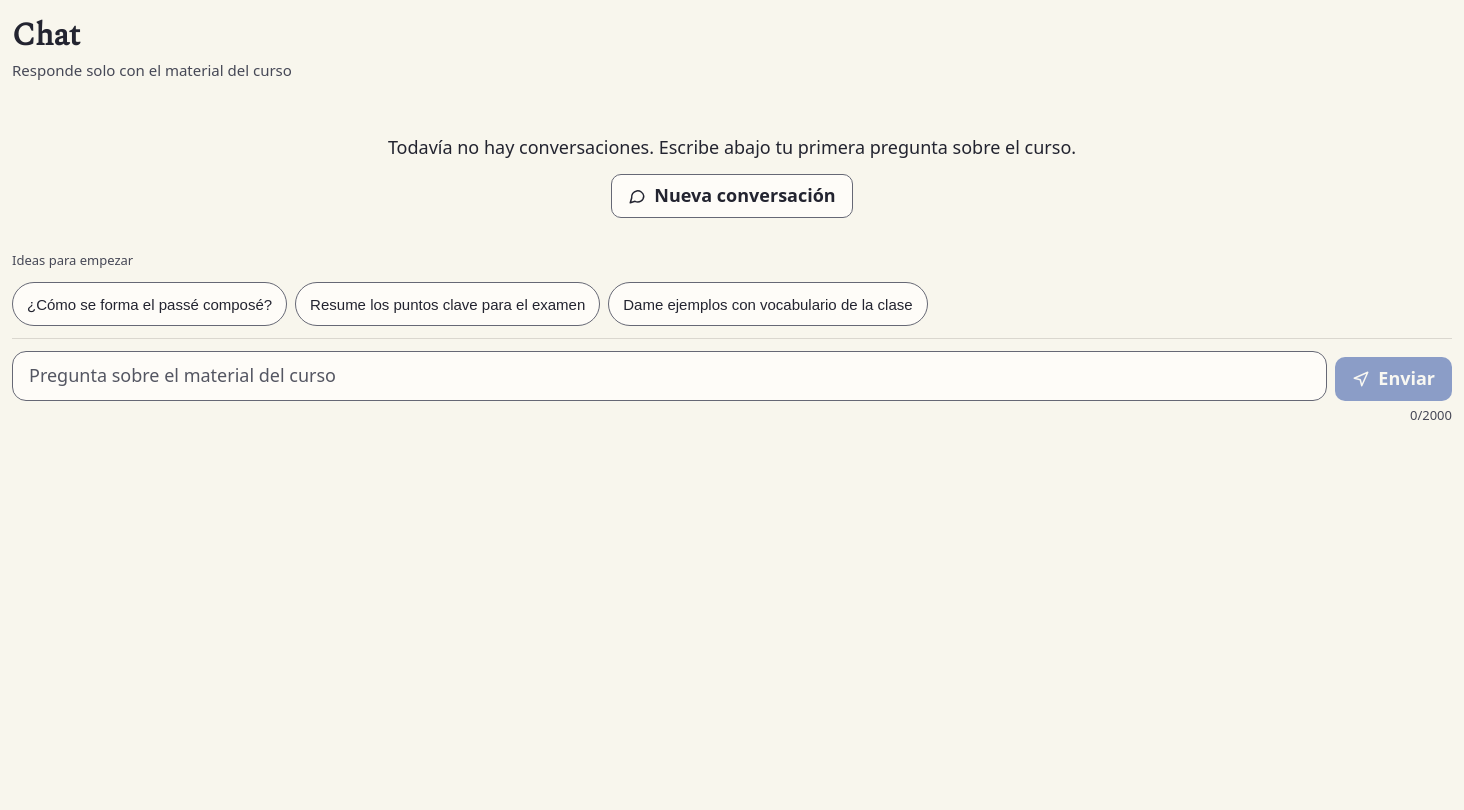
Test: sin conversaciones, la primera pregunta crea el hilo y se envía
Type "¿Cuándo uso être?" into the text box labelled "Pregunta" at (670, 376), box 12,351 -> 1327,401
Then press Enter
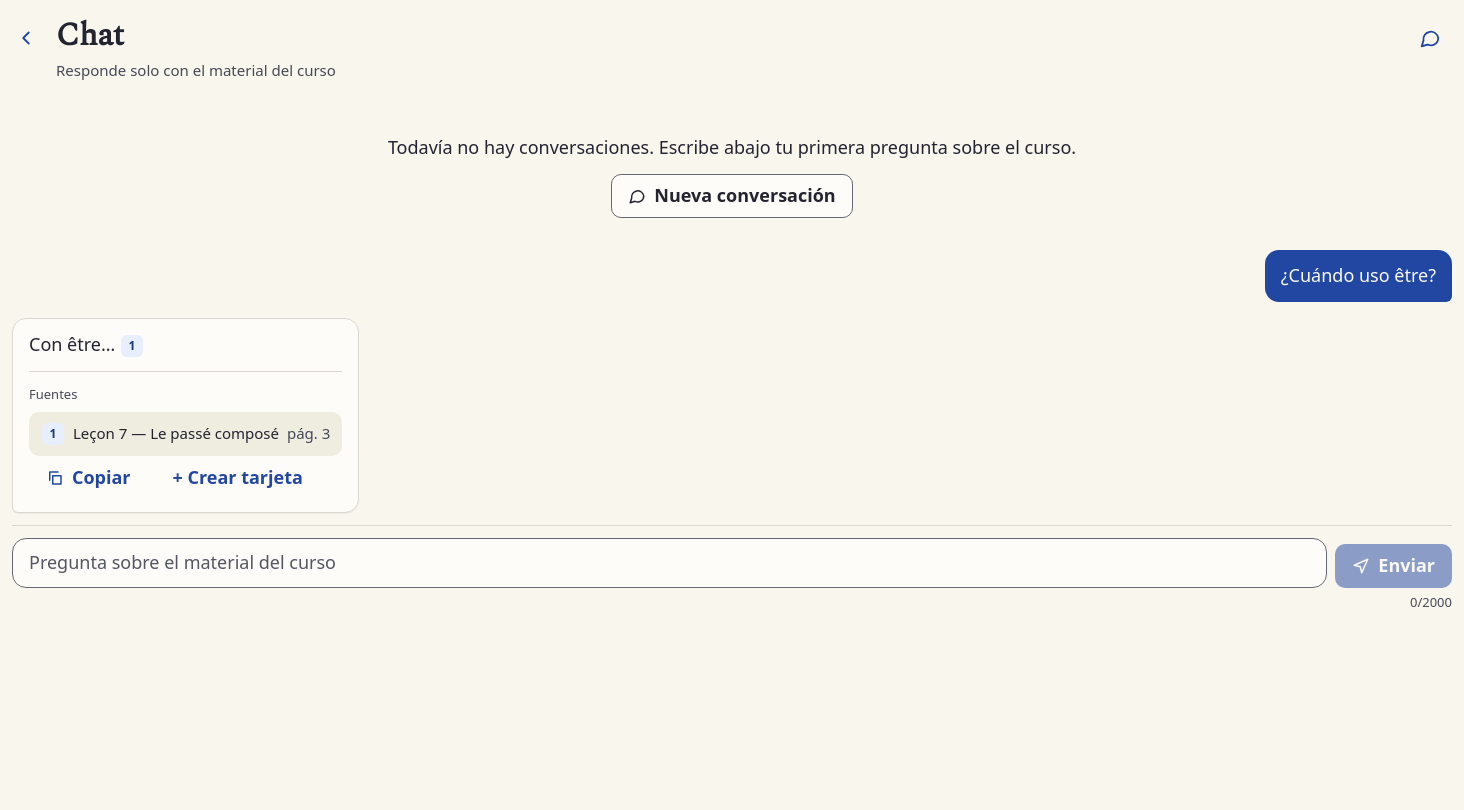
Expected: the text "Con être… 1" is shown, 29,332 -> 143,357
